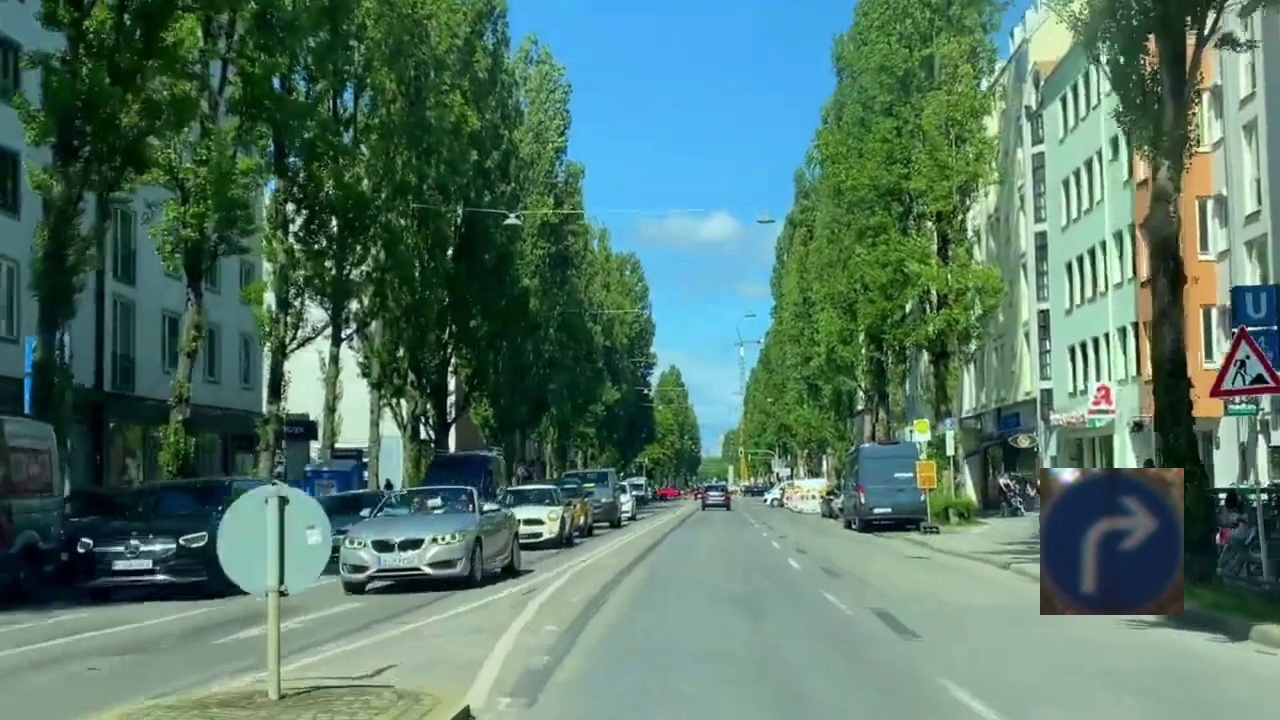Turn right: (1040, 468, 1184, 615)
